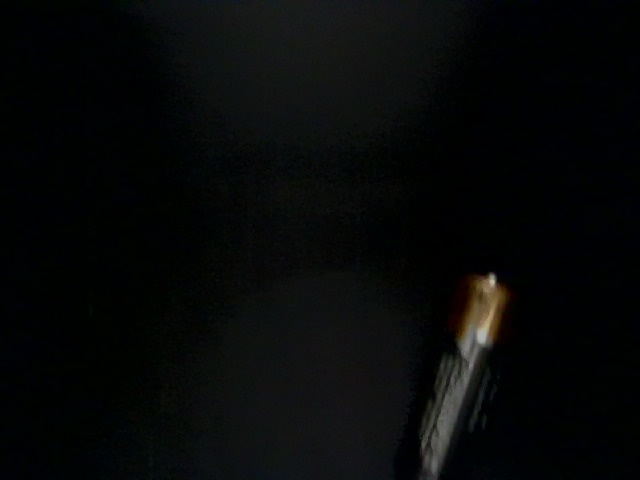QTLJ: (40, 179, 233, 403)
